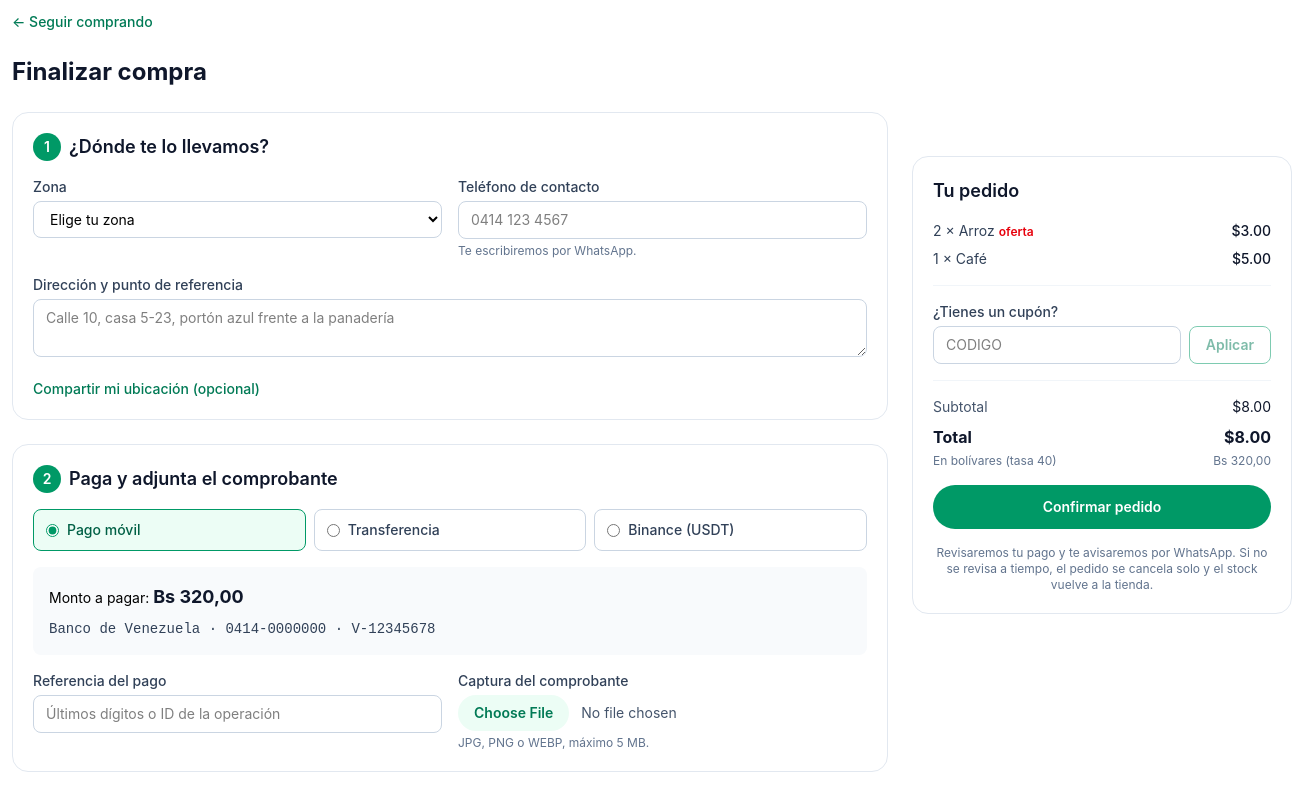
Checkout: resumen y cupón › aplicar un cupón válido muestra el descuento y el nuevo total
This screenshot has width=1292, height=812.
Expected: the text "2 × Arroz" is shown, [933,221,1034,241]
Type "verano10" into the field labelled "¿Tienes un cupón?" at (1057, 345), box [933,326,1181,364]
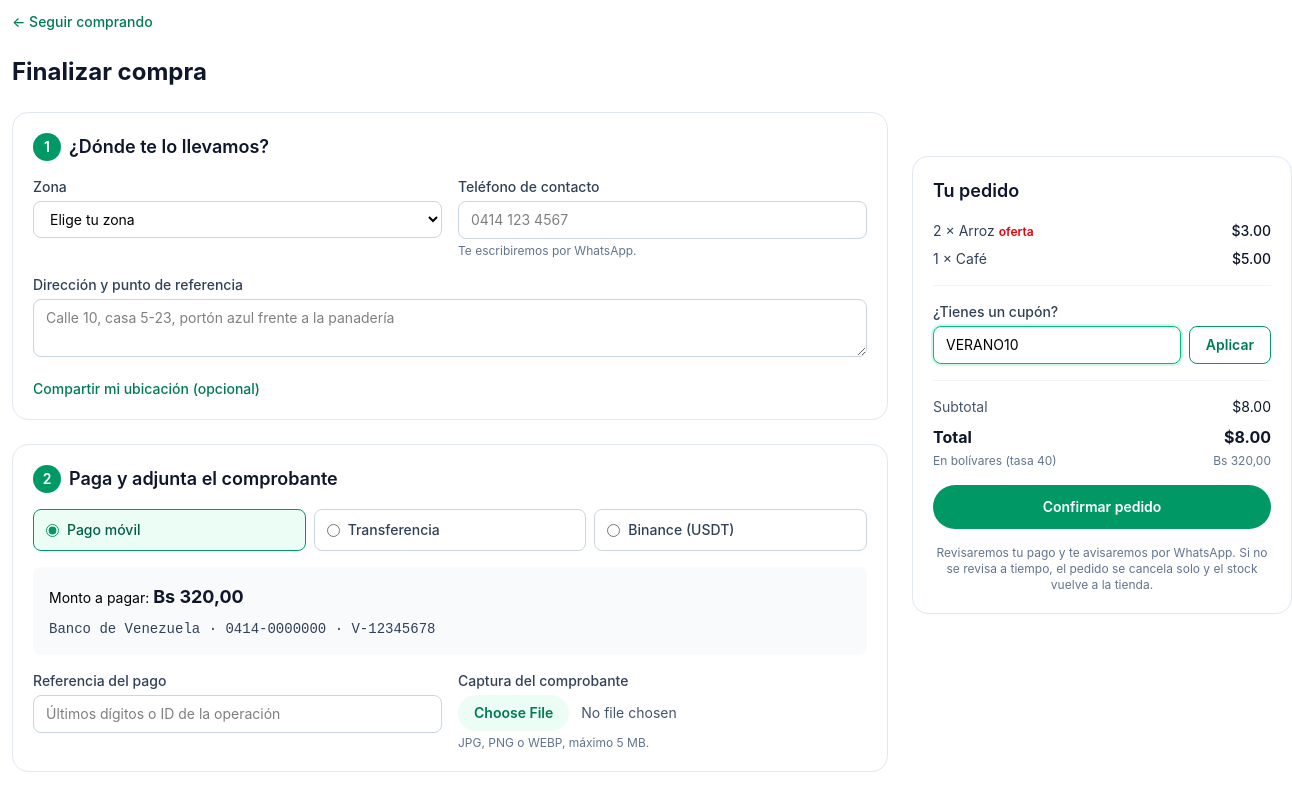
Click the button "Aplicar" at (1230, 345), box [1189,326,1271,364]
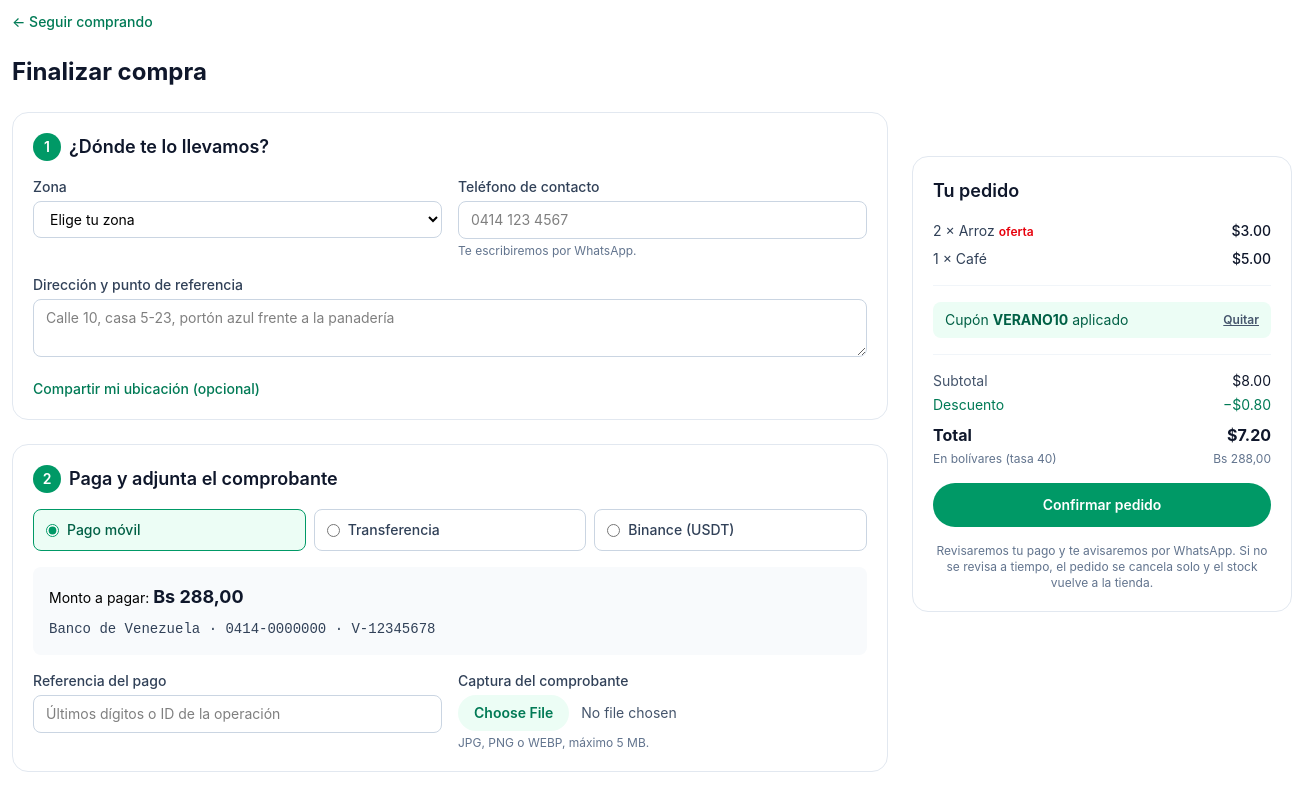
Expected: the text "VERANO10" is shown, [993,311,1068,328]
Expected: the text "−$0.80" is shown, [1223,395,1271,415]
Expected: the text "$7.20" is shown, [1227,423,1271,447]
